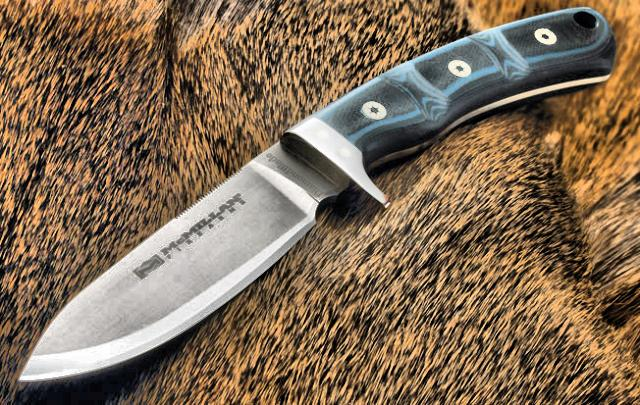knife: (7, 128, 351, 388)
